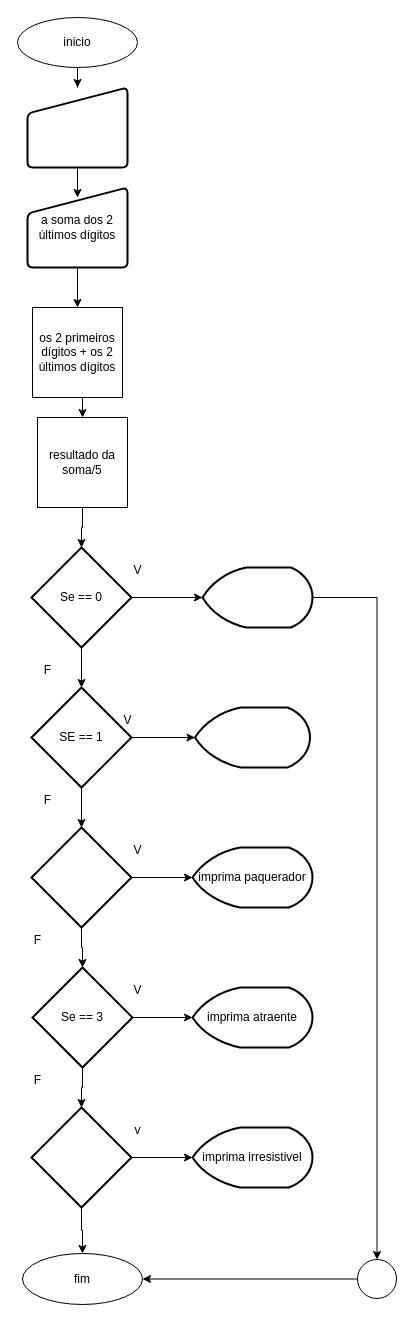
This 414x1322 diagram has some shape labels left out. The centre of each missing label's shape, as x and y in pixels:
"a soma dos 2 primeiros dígitos" belongs at pixel 77 127.
"imprima sonhador" belongs at pixel 252 737.
"imprima timidoa" belongs at pixel 257 597.
"Se == 2" belongs at pixel 81 877.
"Se == 4" belongs at pixel 81 1157.
